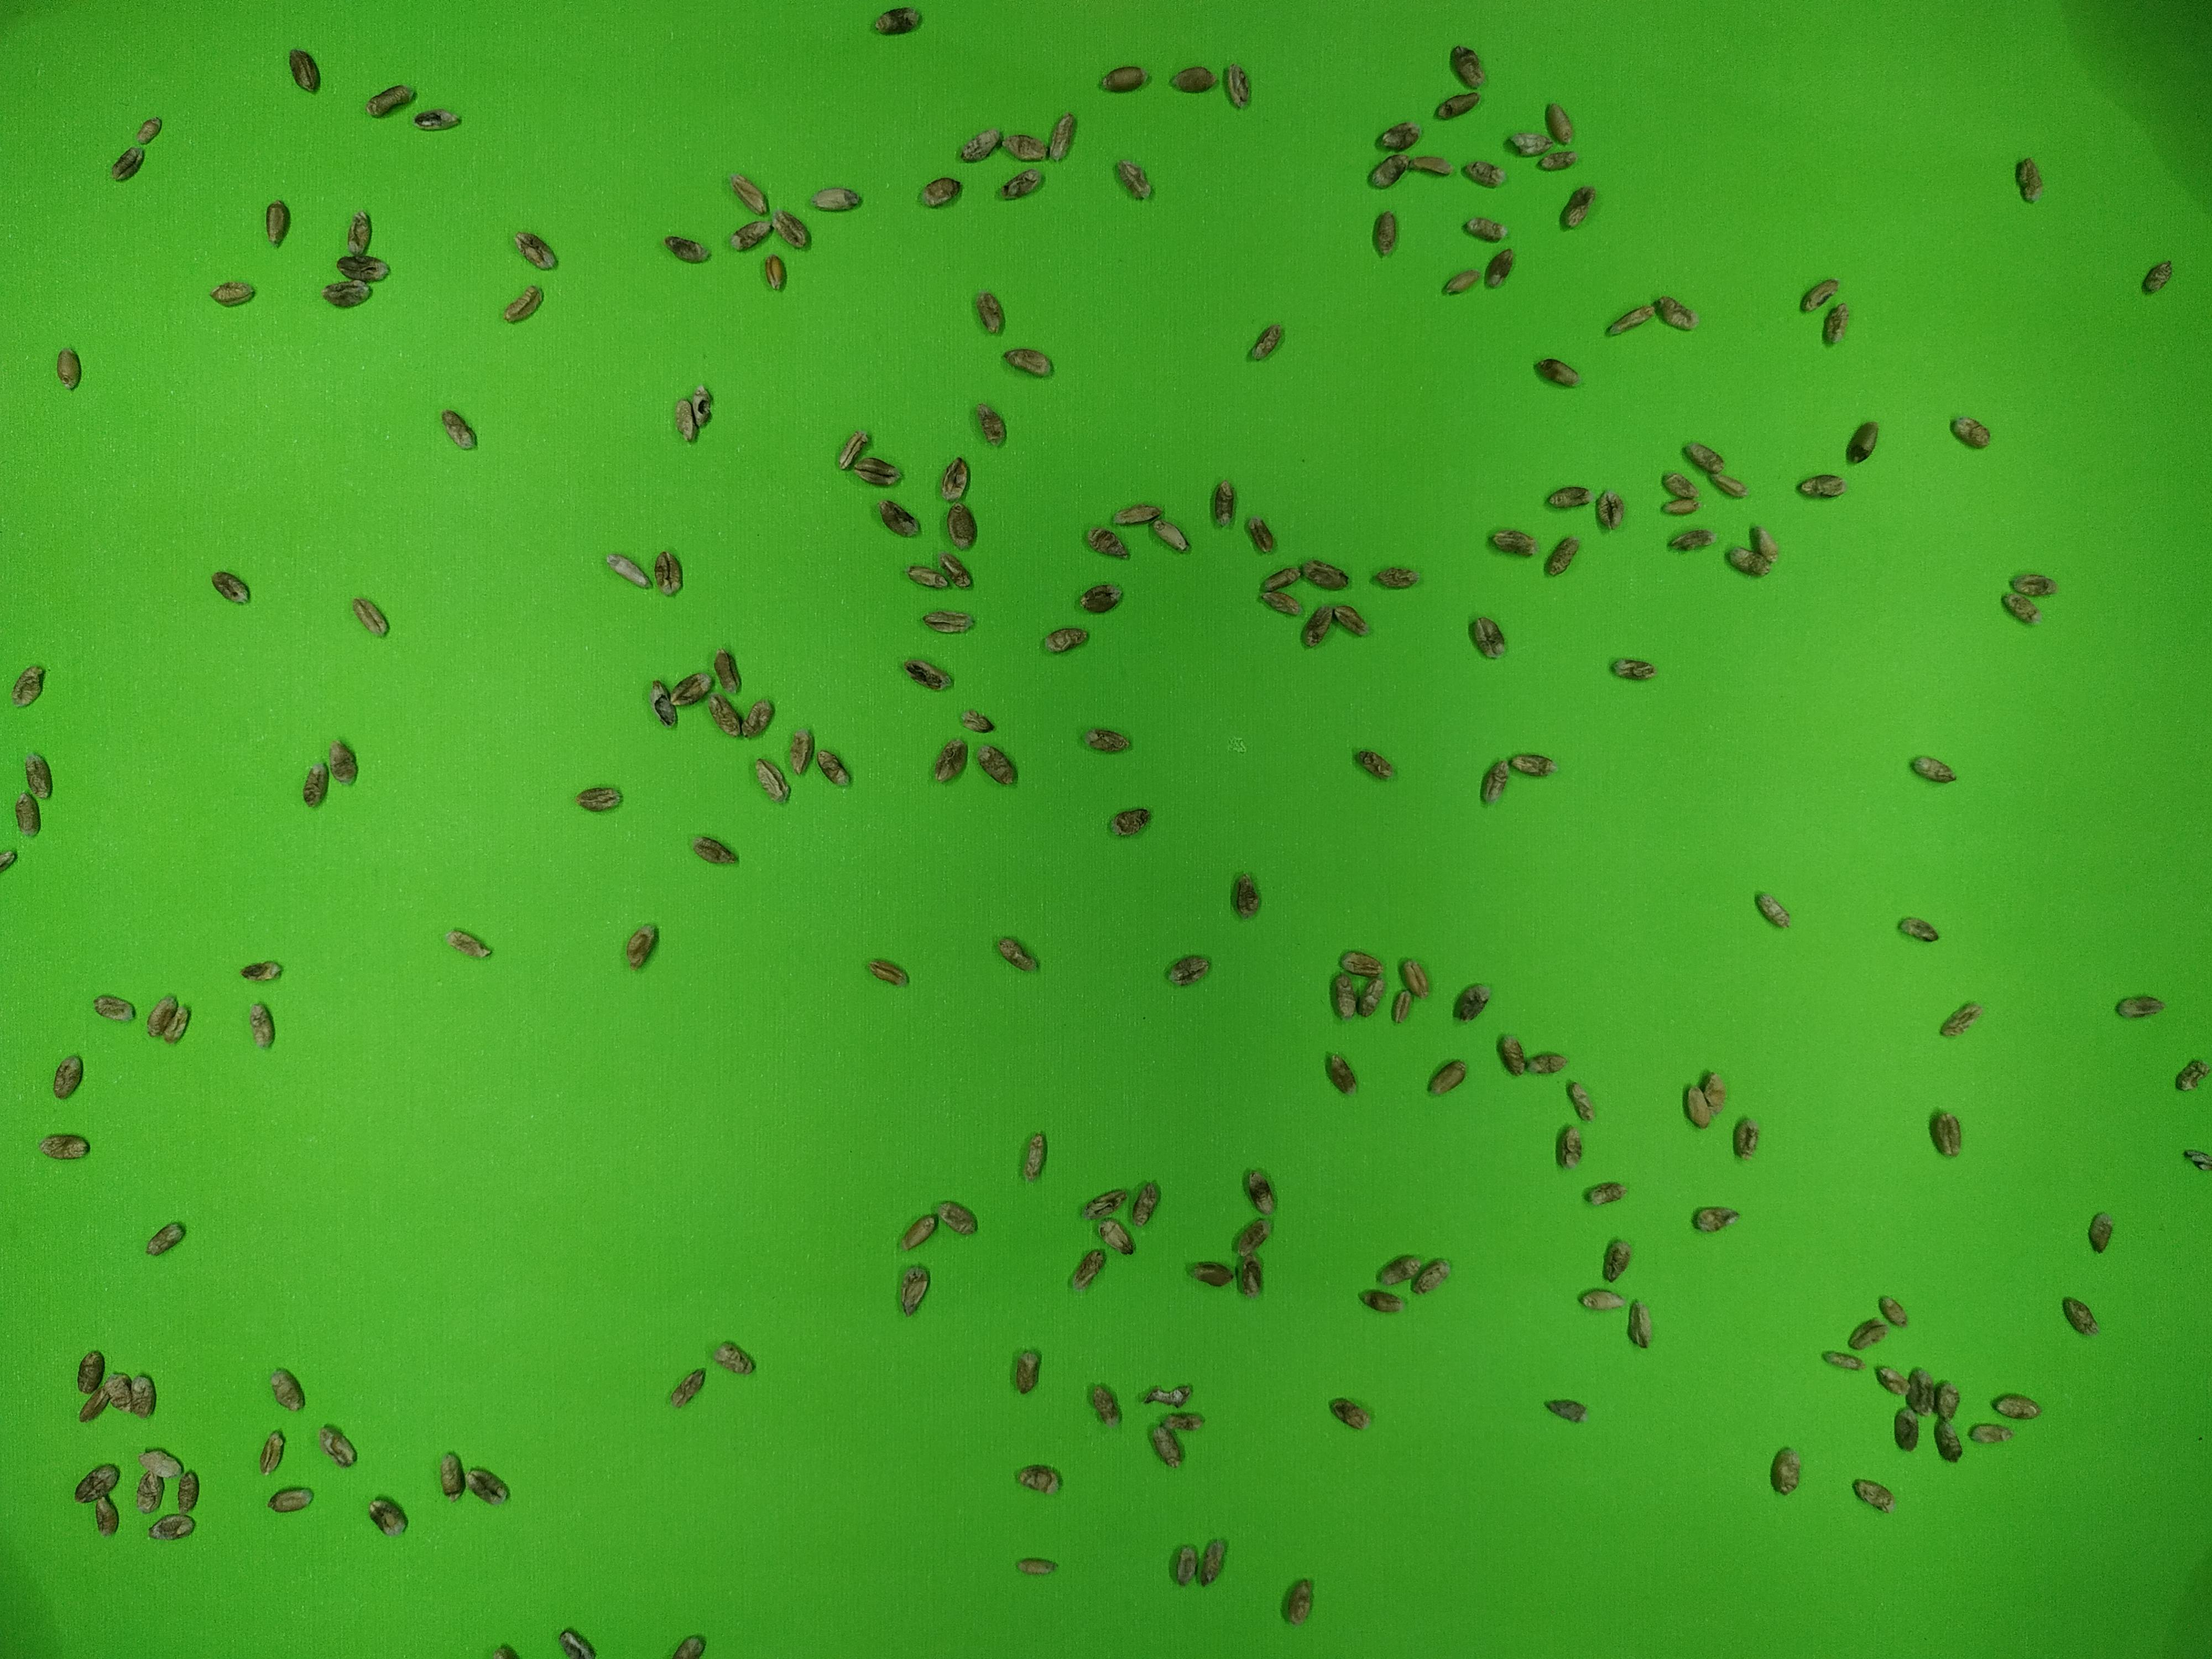danado: (1068, 1240, 1108, 1297), (1441, 40, 1486, 91), (328, 255, 399, 284), (1363, 207, 1402, 260), (342, 206, 379, 260), (1279, 1578, 1317, 1631), (707, 645, 748, 695), (1766, 1446, 1804, 1497), (1923, 1109, 1963, 1158), (930, 551, 979, 591), (1468, 611, 1504, 665), (623, 920, 658, 975), (1246, 316, 1287, 363), (314, 1425, 357, 1469), (975, 742, 1018, 786), (896, 1265, 933, 1317), (650, 549, 686, 601), (1146, 1418, 1183, 1468), (1905, 752, 1958, 787), (1165, 63, 1221, 96), (71, 1463, 121, 1500), (1086, 1380, 1123, 1430), (768, 210, 816, 248), (725, 171, 768, 213), (1240, 512, 1280, 557), (1989, 1390, 2042, 1424), (1394, 953, 1432, 1000), (943, 498, 977, 552), (286, 41, 320, 96), (1092, 1215, 1136, 1257), (1939, 1001, 1984, 1041), (517, 228, 555, 274), (1592, 486, 1628, 535), (1493, 1032, 1531, 1079), (1127, 1178, 1161, 1231), (917, 172, 964, 210), (1139, 1380, 1195, 1411), (49, 1053, 86, 1102), (1599, 1235, 1634, 1286), (1076, 579, 1123, 617), (1948, 414, 1994, 452), (971, 286, 1005, 338), (1046, 107, 1078, 161), (932, 738, 968, 786), (9, 662, 47, 708), (1552, 1124, 1586, 1175), (324, 737, 359, 786), (144, 1219, 187, 1259), (1240, 1169, 1279, 1213), (88, 990, 136, 1026), (1680, 1082, 1715, 1132), (23, 750, 55, 804), (12, 789, 44, 842), (994, 933, 1037, 974), (1009, 1347, 1042, 1398), (1107, 802, 1154, 839), (1225, 872, 1264, 916), (255, 1428, 289, 1478), (877, 499, 920, 538), (439, 409, 477, 452), (1078, 1185, 1128, 1219), (350, 596, 390, 638), (1097, 63, 1149, 95), (137, 1444, 180, 1483), (73, 1348, 107, 1397), (1893, 912, 1943, 946), (1000, 130, 1047, 165), (1327, 1395, 1373, 1431), (1004, 346, 1053, 379), (754, 258, 797, 296), (1115, 155, 1149, 204), (2061, 1296, 2098, 1340), (1725, 541, 1770, 578), (808, 185, 863, 215), (1336, 946, 1385, 979), (1164, 951, 1212, 985), (53, 344, 84, 395), (1377, 1252, 1423, 1287), (709, 1339, 754, 1376), (1479, 247, 1515, 291), (444, 926, 489, 962), (899, 1213, 938, 1254), (1196, 1535, 1228, 1584), (1208, 479, 1240, 528), (1922, 1381, 1964, 1420), (752, 757, 787, 802), (2012, 156, 2046, 204), (958, 127, 1004, 162), (934, 1198, 977, 1235), (1480, 753, 1509, 808), (1540, 484, 1594, 513), (129, 1369, 158, 1423), (1301, 557, 1348, 591), (367, 84, 414, 117), (172, 1465, 204, 1515), (436, 1449, 468, 1498), (707, 695, 744, 738), (1482, 528, 1537, 557), (1535, 354, 1578, 391), (1853, 1477, 1897, 1512), (210, 568, 251, 606), (1083, 526, 1128, 561), (1752, 893, 1794, 930), (263, 192, 291, 249), (1327, 971, 1361, 1016), (1321, 1053, 1357, 1095), (1796, 472, 1848, 502), (865, 956, 912, 988), (1371, 562, 1420, 594), (1408, 1259, 1454, 1292), (691, 377, 717, 435), (299, 761, 329, 812), (1967, 1418, 2016, 1450), (1170, 1541, 1200, 1591), (237, 957, 287, 987), (1258, 585, 1303, 619), (463, 1468, 508, 1502), (1655, 298, 1700, 331), (1219, 66, 1254, 109), (1015, 1463, 1062, 1495), (738, 698, 776, 738), (1112, 500, 1162, 530), (368, 1497, 406, 1537), (1661, 475, 1697, 517), (39, 1130, 89, 1160), (1503, 750, 1558, 778), (1376, 121, 1421, 154), (1543, 536, 1579, 578), (2083, 1209, 2115, 1256), (270, 1365, 302, 1412), (1561, 181, 1592, 230), (1368, 152, 1406, 191), (246, 1000, 276, 1050), (1301, 606, 1338, 646), (109, 144, 146, 185), (133, 1474, 168, 1516), (729, 217, 772, 252), (1428, 1059, 1468, 1095), (1729, 1116, 1761, 1162), (669, 1370, 707, 1408), (1846, 420, 1877, 467), (1611, 654, 1657, 686), (1575, 1286, 1624, 1316), (1352, 748, 1395, 781), (855, 456, 899, 489), (957, 702, 999, 737), (694, 832, 735, 867), (1563, 1078, 1595, 1123), (789, 724, 816, 777), (267, 1484, 313, 1515), (942, 453, 970, 504), (1462, 212, 1505, 246), (1749, 518, 1780, 565), (2139, 258, 2174, 299), (974, 404, 1009, 445), (1238, 1254, 1269, 1300), (210, 280, 258, 310), (1623, 1306, 1656, 1348), (673, 671, 711, 709), (902, 660, 949, 690), (903, 561, 948, 592), (817, 743, 849, 787), (604, 553, 649, 585), (923, 609, 974, 637), (325, 279, 369, 310), (1502, 129, 1550, 159), (1021, 1129, 1048, 1180), (1524, 1050, 1574, 1078), (503, 287, 542, 323), (1080, 726, 1129, 754), (1820, 305, 1851, 349), (1409, 150, 1454, 181), (1451, 983, 1486, 1022), (876, 5, 919, 37), (415, 101, 456, 134), (1461, 159, 1506, 189), (101, 1369, 134, 1410), (1543, 98, 1572, 147), (576, 785, 622, 815), (1013, 1550, 1063, 1577), (1543, 1395, 1588, 1425), (146, 996, 176, 1041), (1933, 1421, 1965, 1464), (1682, 443, 1725, 474), (998, 169, 1041, 200), (1795, 279, 1840, 309), (664, 236, 709, 265), (1434, 91, 1476, 123), (2008, 571, 2054, 601), (1606, 306, 1652, 336), (838, 429, 867, 474), (675, 400, 703, 447), (2114, 992, 2159, 1022), (1357, 971, 1386, 1016), (1692, 1072, 1729, 1108), (1871, 1366, 1912, 1399), (1043, 626, 1090, 654), (93, 1491, 121, 1538), (1261, 561, 1303, 592), (1187, 1260, 1234, 1287), (555, 1623, 591, 1659), (131, 111, 168, 146), (1531, 145, 1575, 175), (1440, 267, 1482, 298), (80, 1380, 108, 1427), (1585, 1177, 1629, 1206), (1670, 525, 1715, 554), (1145, 522, 1191, 549), (2172, 1060, 2207, 1095), (1851, 1316, 1886, 1352), (1890, 1407, 1919, 1450), (1693, 1202, 1731, 1235), (162, 1000, 189, 1046), (1905, 1374, 1938, 1412), (2000, 595, 2044, 623), (651, 686, 681, 727), (1707, 469, 1748, 498), (1824, 1347, 1866, 1375), (1359, 1290, 1402, 1317), (1877, 1292, 1908, 1330), (150, 1515, 196, 1540), (1156, 1411, 1208, 1433), (1239, 1220, 1266, 1261), (1334, 603, 1366, 637), (1387, 988, 1414, 1025)
